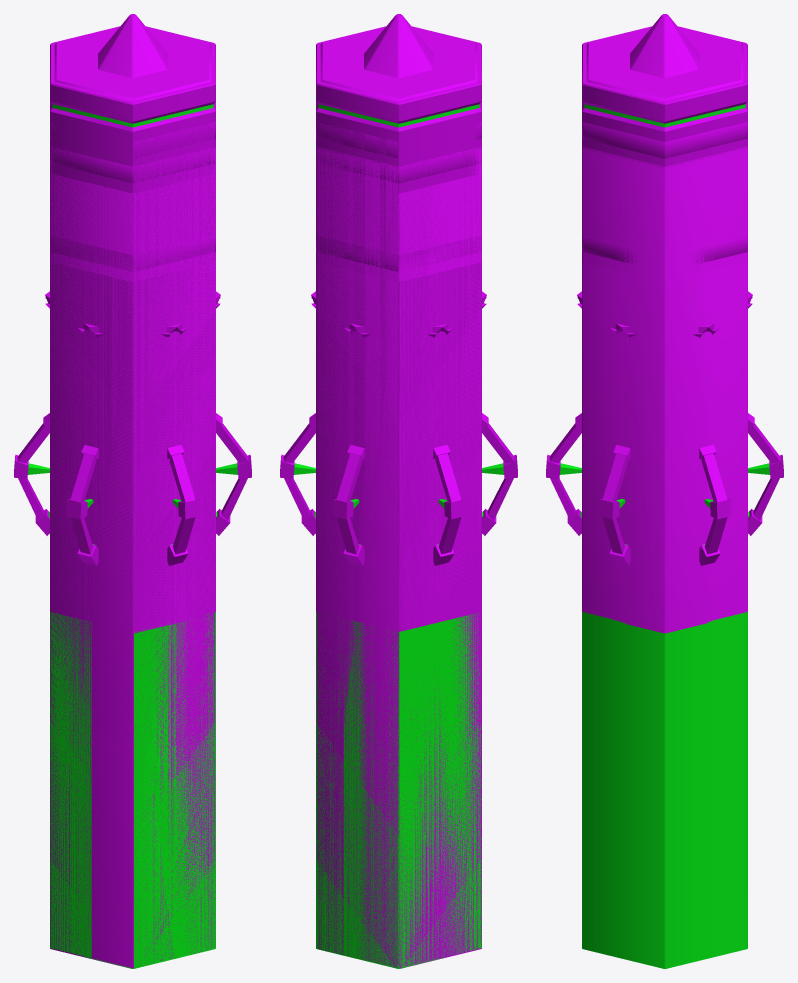
File: AllWallAndFloorBits.FBX
3 views of the same model, side by side, from view 1: azimuth 30°, elevation 25°; view 2: azimuth 150°, elevation 25°; view 3: azimuth 270°, elevation 25° (orthographic).
Visible parts, largest first — view 1: Object154, Object160, Object158, Object150, Object130, Object140, Object156, Object136, Object134, Object128, Object146, Object144; view 2: Object150, Object160, Object156, Object158, Object154, Object130, Object136, Object128, Object134, Object132; view 3: Object144, Object156, Object150, Object160, Object136, Object158.
Part boxes in pixels (box(x1,y1,x2,y2)): Object154: box(50, 235, 214, 967); Object160: box(50, 26, 215, 966); Object158: box(50, 14, 215, 967); Object150: box(134, 235, 215, 961); Object130: box(50, 611, 214, 957); Object140: box(127, 621, 215, 968); Object156: box(50, 121, 215, 963); Object136: box(14, 413, 251, 565); Object134: box(51, 648, 214, 966); Object128: box(134, 611, 215, 967); Object146: box(85, 680, 214, 968); Object144: box(134, 613, 215, 968); Object150: box(316, 235, 397, 965); Object160: box(316, 26, 481, 965); Object156: box(316, 121, 481, 966); Object158: box(316, 14, 481, 966); Object154: box(317, 236, 481, 967); Object130: box(317, 612, 481, 967); Object136: box(280, 413, 517, 565); Object128: box(316, 611, 397, 967); Object134: box(317, 615, 480, 956); Object132: box(383, 637, 397, 967); Object144: box(582, 613, 747, 968); Object156: box(582, 121, 747, 633); Object150: box(582, 235, 747, 624); Object160: box(582, 26, 747, 168); Object136: box(546, 413, 783, 565); Object158: box(582, 14, 747, 168).
Size of the model in its own units: 281 by 313 by 1324.
